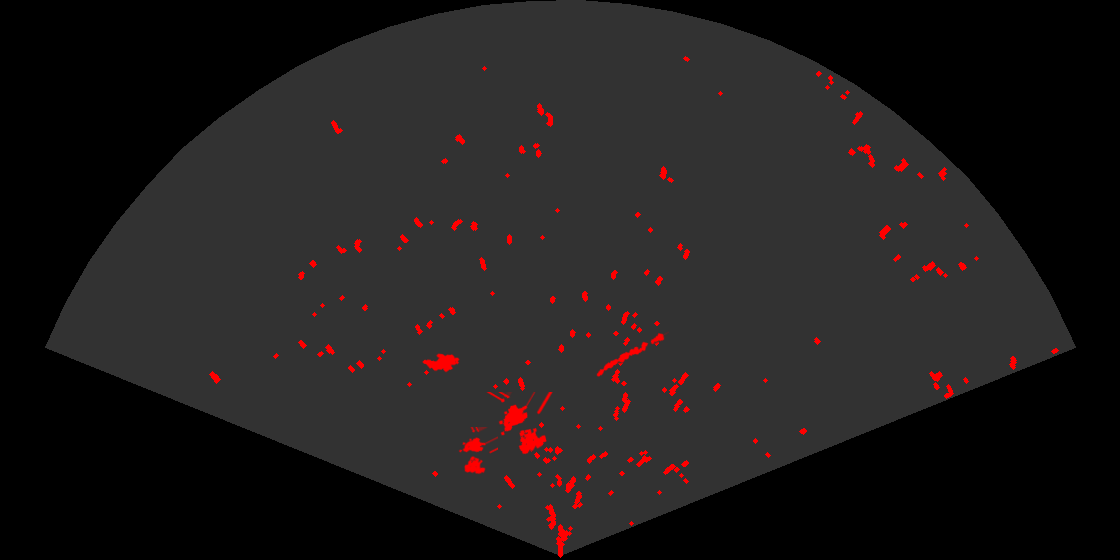AUV: (421, 352, 461, 374)
cage: (485, 392, 554, 456), (457, 427, 498, 476)
chain: (595, 330, 669, 378)
